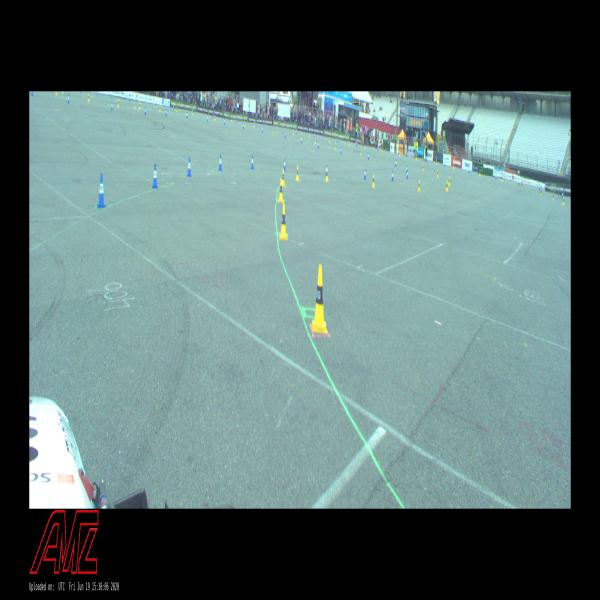blue_cone: (97, 173, 105, 207), (152, 163, 158, 188), (187, 157, 192, 176), (218, 154, 222, 170), (283, 158, 286, 172), (251, 155, 254, 169), (391, 171, 394, 181), (406, 170, 409, 179), (325, 164, 327, 176), (364, 168, 366, 179), (406, 164, 408, 173)
yellow_cone: (311, 265, 328, 333), (280, 203, 288, 240), (278, 179, 284, 202), (280, 169, 286, 186), (296, 166, 300, 180), (372, 174, 375, 187), (326, 169, 328, 182), (418, 180, 420, 191), (446, 181, 448, 191), (448, 177, 450, 185), (436, 170, 438, 178), (422, 164, 424, 171)
